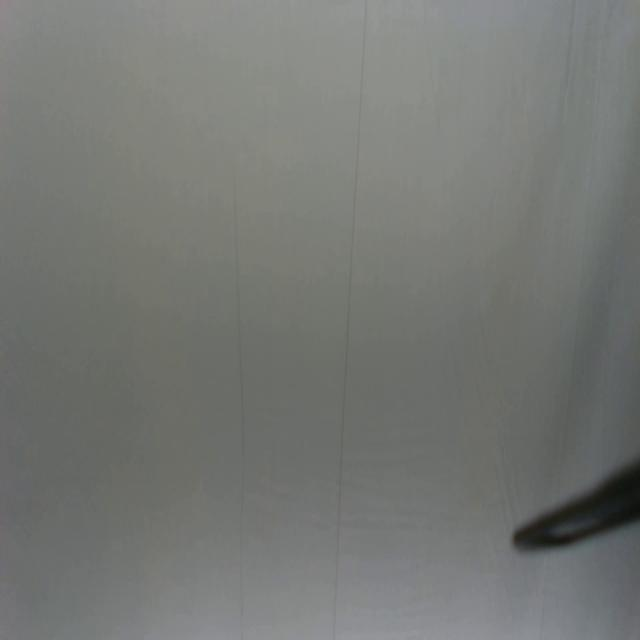crease: (333, 0, 370, 639), (234, 174, 248, 633)
